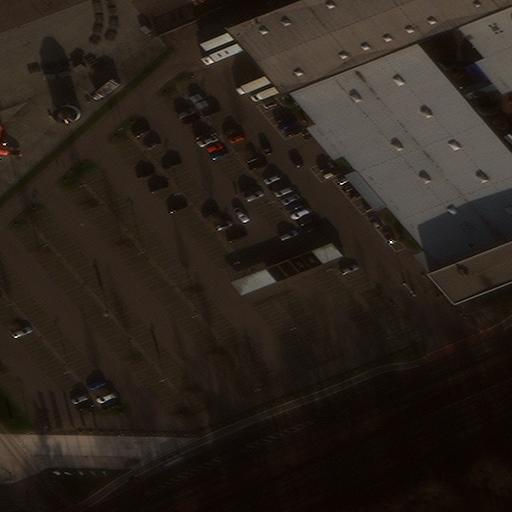Military Transport: (0, 126, 22, 166)
